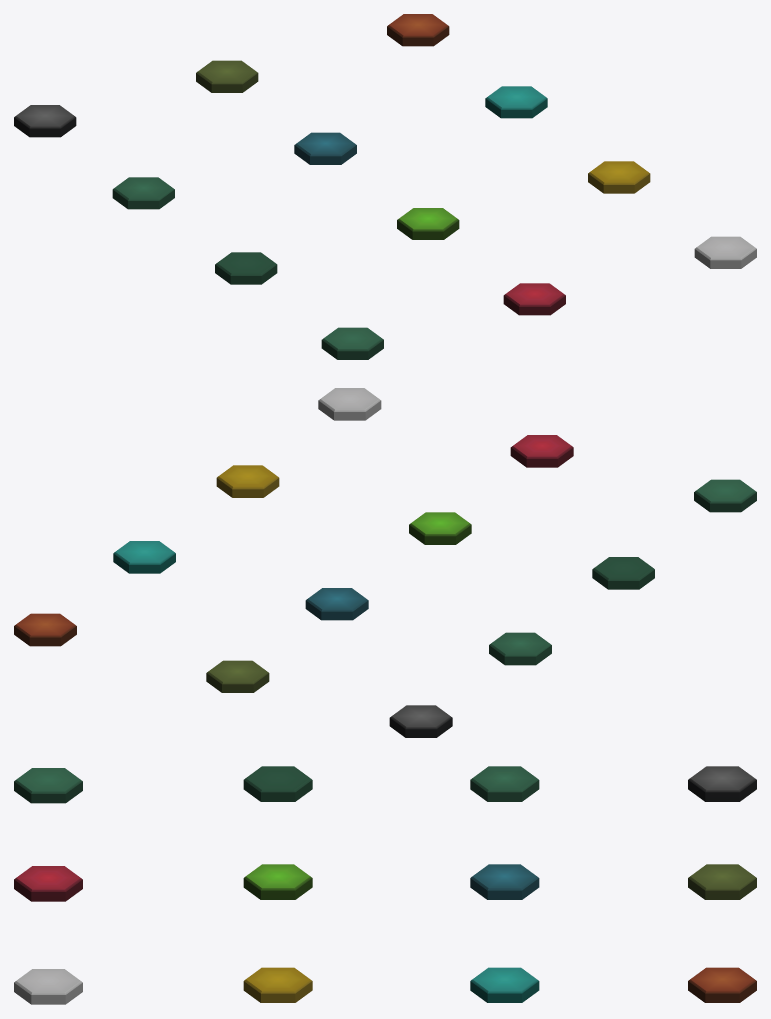
File: HexagonosColor.fbx
3 renders of one model, top to bottom at view 1: azimuth 30°, elevation 25°; view 2: azimuth 150°, elevation 25°; view 3: azimuth 270°, elevation 25°, orthographic. The views are drawn at different scales.
Parts seen in each view (by area): view 1: Cylinder.002, Cylinder.005, Cylinder.008, Cylinder.009, Cylinder.001, Cylinder.004, Cylinder.003, Cylinder.007, Cylinder.010, Cylinder.011, Cylinder.012, Cylinder.006; view 2: Cylinder.004, Cylinder.011, Cylinder.002, Cylinder.012, Cylinder.009, Cylinder.010, Cylinder.003, Cylinder.005, Cylinder.007, Cylinder.006, Cylinder.001, Cylinder.008; view 3: Cylinder.006, Cylinder.007, Cylinder.012, Cylinder.002, Cylinder.001, Cylinder.008, Cylinder.011, Cylinder.005, Cylinder.009, Cylinder.010, Cylinder.004, Cylinder.003.
Boxes of the visible parts, <box> form: Cylinder.002: <box>112,177,174,209</box>; Cylinder.005: <box>14,105,76,137</box>; Cylinder.008: <box>215,252,277,284</box>; Cylinder.009: <box>503,283,565,315</box>; Cylinder.001: <box>485,86,547,118</box>; Cylinder.004: <box>387,14,449,46</box>; Cylinder.003: <box>196,60,258,92</box>; Cylinder.007: <box>588,161,650,193</box>; Cylinder.010: <box>694,236,756,268</box>; Cylinder.011: <box>321,327,383,359</box>; Cylinder.012: <box>294,132,356,164</box>; Cylinder.006: <box>397,208,459,239</box>; Cylinder.004: <box>14,613,76,646</box>; Cylinder.011: <box>694,479,756,512</box>; Cylinder.002: <box>489,632,551,665</box>; Cylinder.012: <box>305,588,368,620</box>; Cylinder.009: <box>510,435,573,467</box>; Cylinder.010: <box>318,388,381,420</box>; Cylinder.003: <box>206,660,269,692</box>; Cylinder.005: <box>389,705,452,737</box>; Cylinder.007: <box>216,465,279,497</box>; Cylinder.006: <box>409,512,471,544</box>; Cylinder.001: <box>113,541,175,573</box>; Cylinder.008: <box>592,557,654,589</box>; Cylinder.006: <box>243,864,312,899</box>; Cylinder.007: <box>243,967,312,1002</box>; Cylinder.012: <box>470,864,539,899</box>; Cylinder.002: <box>470,766,539,801</box>; Cylinder.001: <box>470,967,539,1002</box>; Cylinder.008: <box>243,766,312,801</box>; Cylinder.011: <box>14,768,82,803</box>; Cylinder.005: <box>688,766,756,801</box>; Cylinder.009: <box>14,866,82,901</box>; Cylinder.010: <box>14,969,82,1004</box>; Cylinder.004: <box>688,967,756,1002</box>; Cylinder.003: <box>688,864,756,899</box>.
Size of the model in its own units: 4693 by 108 by 6466.
1 material, 1 textured.
